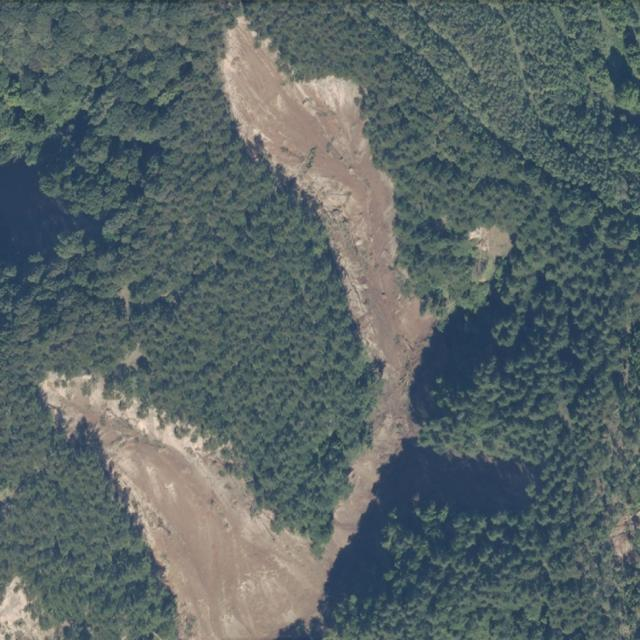landslide: (40, 16, 436, 640)
